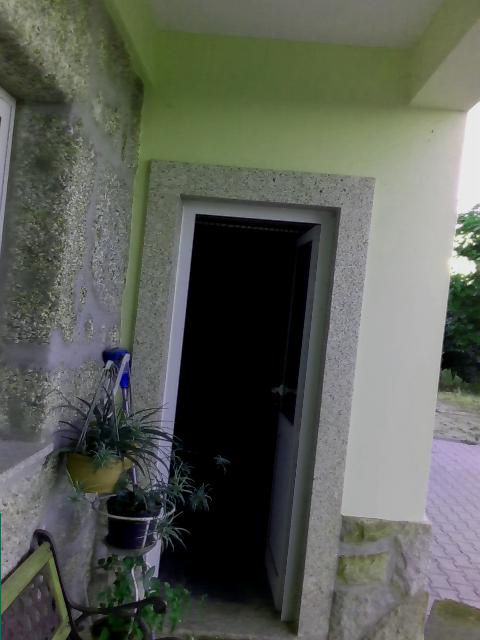open_door: (143, 190, 342, 639)
